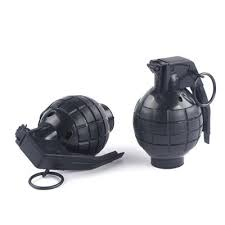e1: (14, 94, 125, 191), (131, 56, 216, 170)
